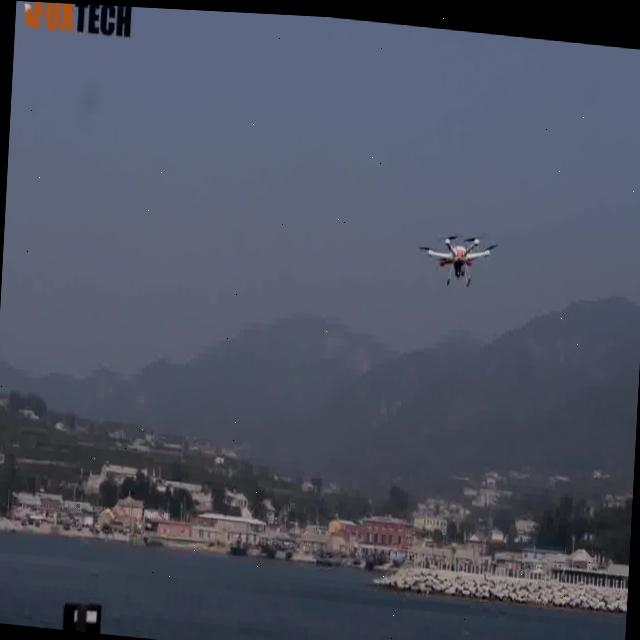drone: (414, 223, 500, 293)
